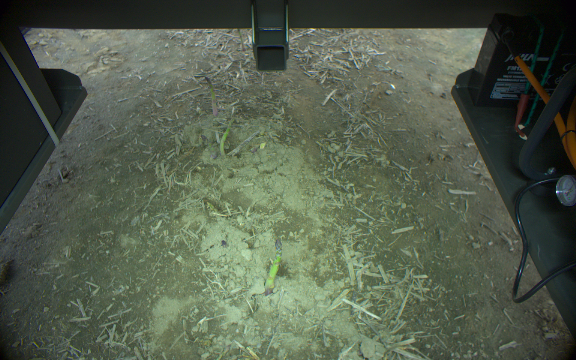aspa: (262, 237, 284, 293), (218, 108, 239, 156), (203, 73, 219, 119), (236, 28, 245, 50)
